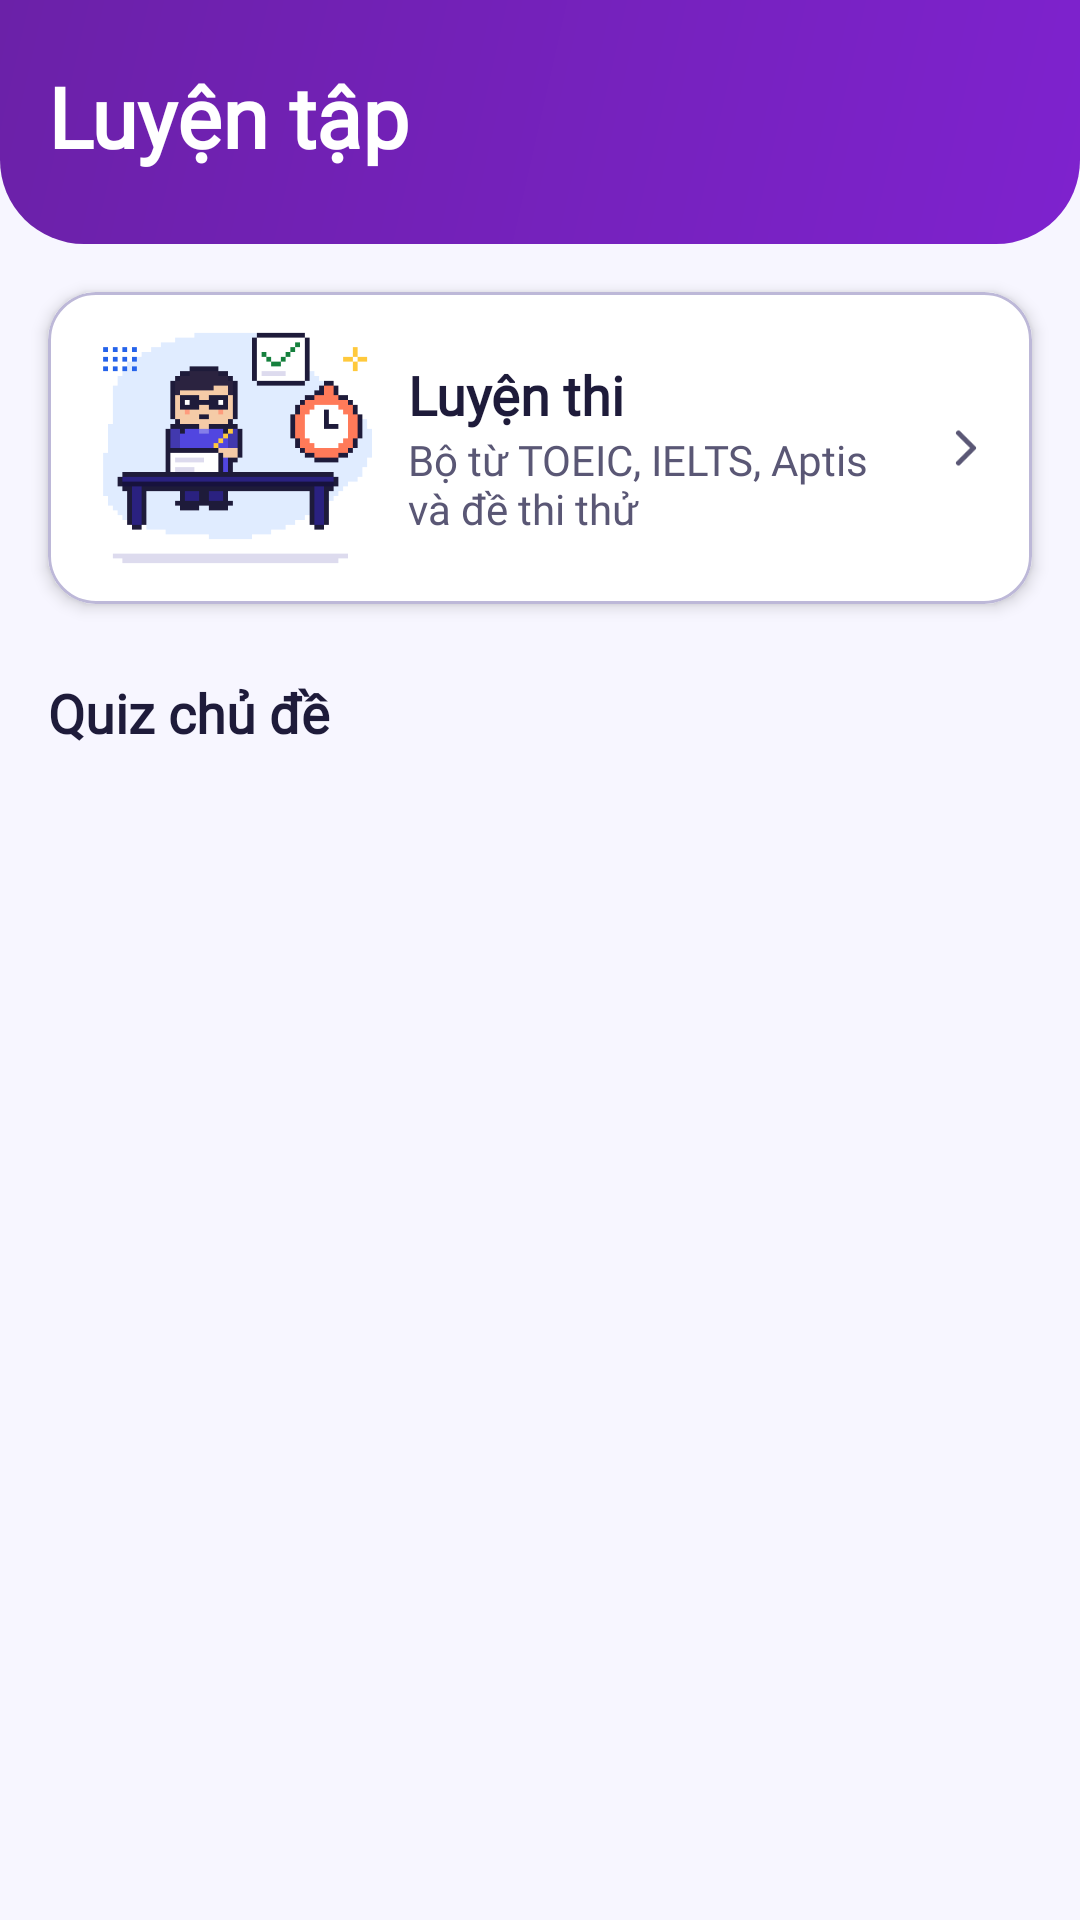

Point at icon controls on the screen. Image size 1080*1920, points as point (x, y).
chevron right: point (966, 448)
ill exam prep: point (237, 447)
